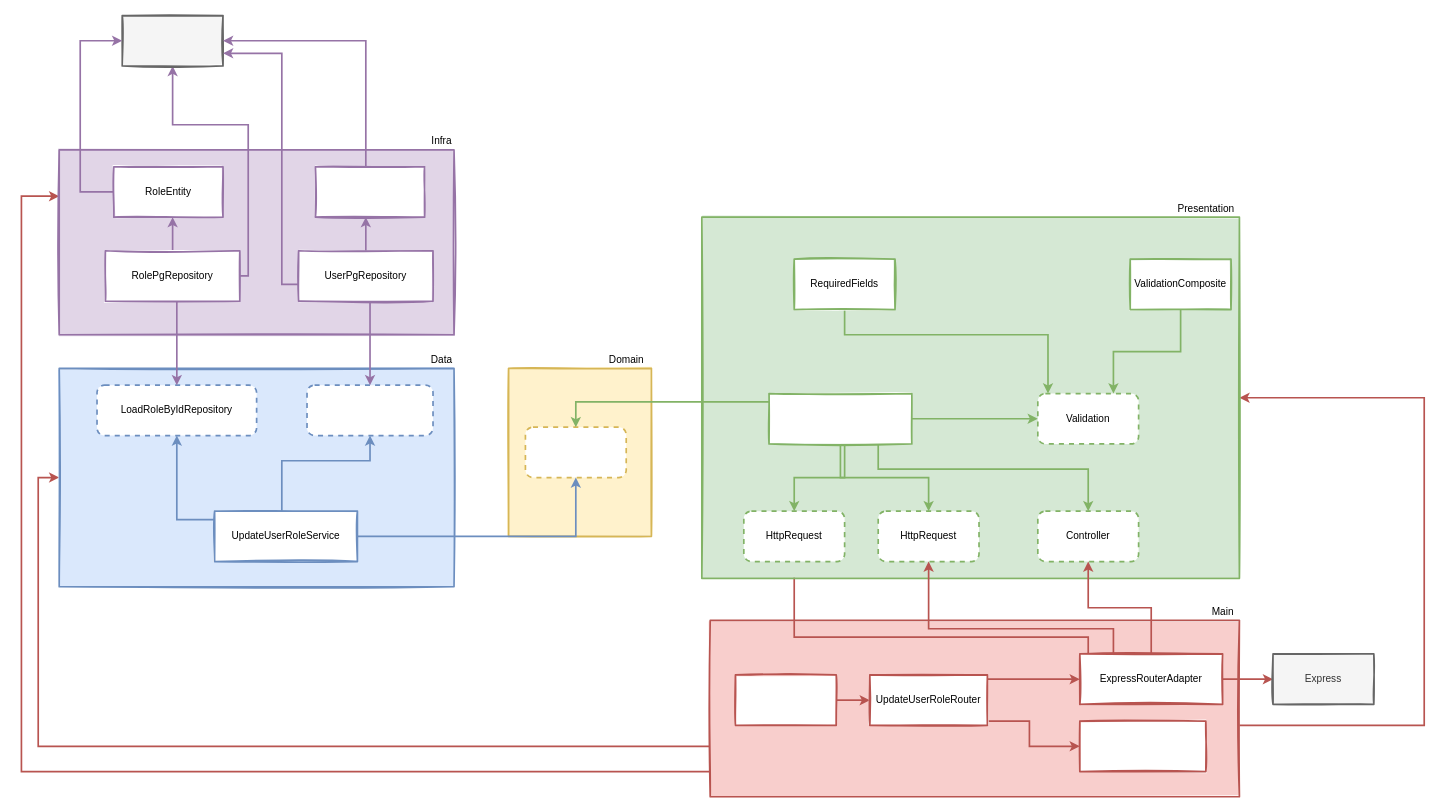
The diagram is 1446 pixels wide and 811 high, and some of its shapes have lost their labels. The shapes that lost their labels are listed below. From the top down, each one's centre as x and y in pixels, then its label:
At pixel 172 40: "TypeOrm".
At pixel 369 191: "UserEntity".
At pixel 369 410: "UpdateRoleRepository".
At pixel 840 418: "UpdateUserRoleController".
At pixel 575 452: "UpdateUserRole".
At pixel 785 700: "App".
At pixel 1142 746: "UpdateUserRoleFactory".
